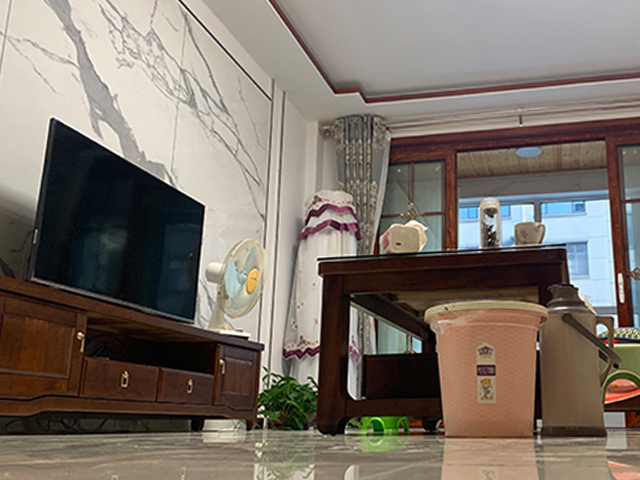cabinet: (1, 273, 266, 431)
stool: (600, 341, 640, 409), (359, 413, 410, 438)
table: (316, 242, 563, 438)
trashcan: (425, 299, 550, 440)
